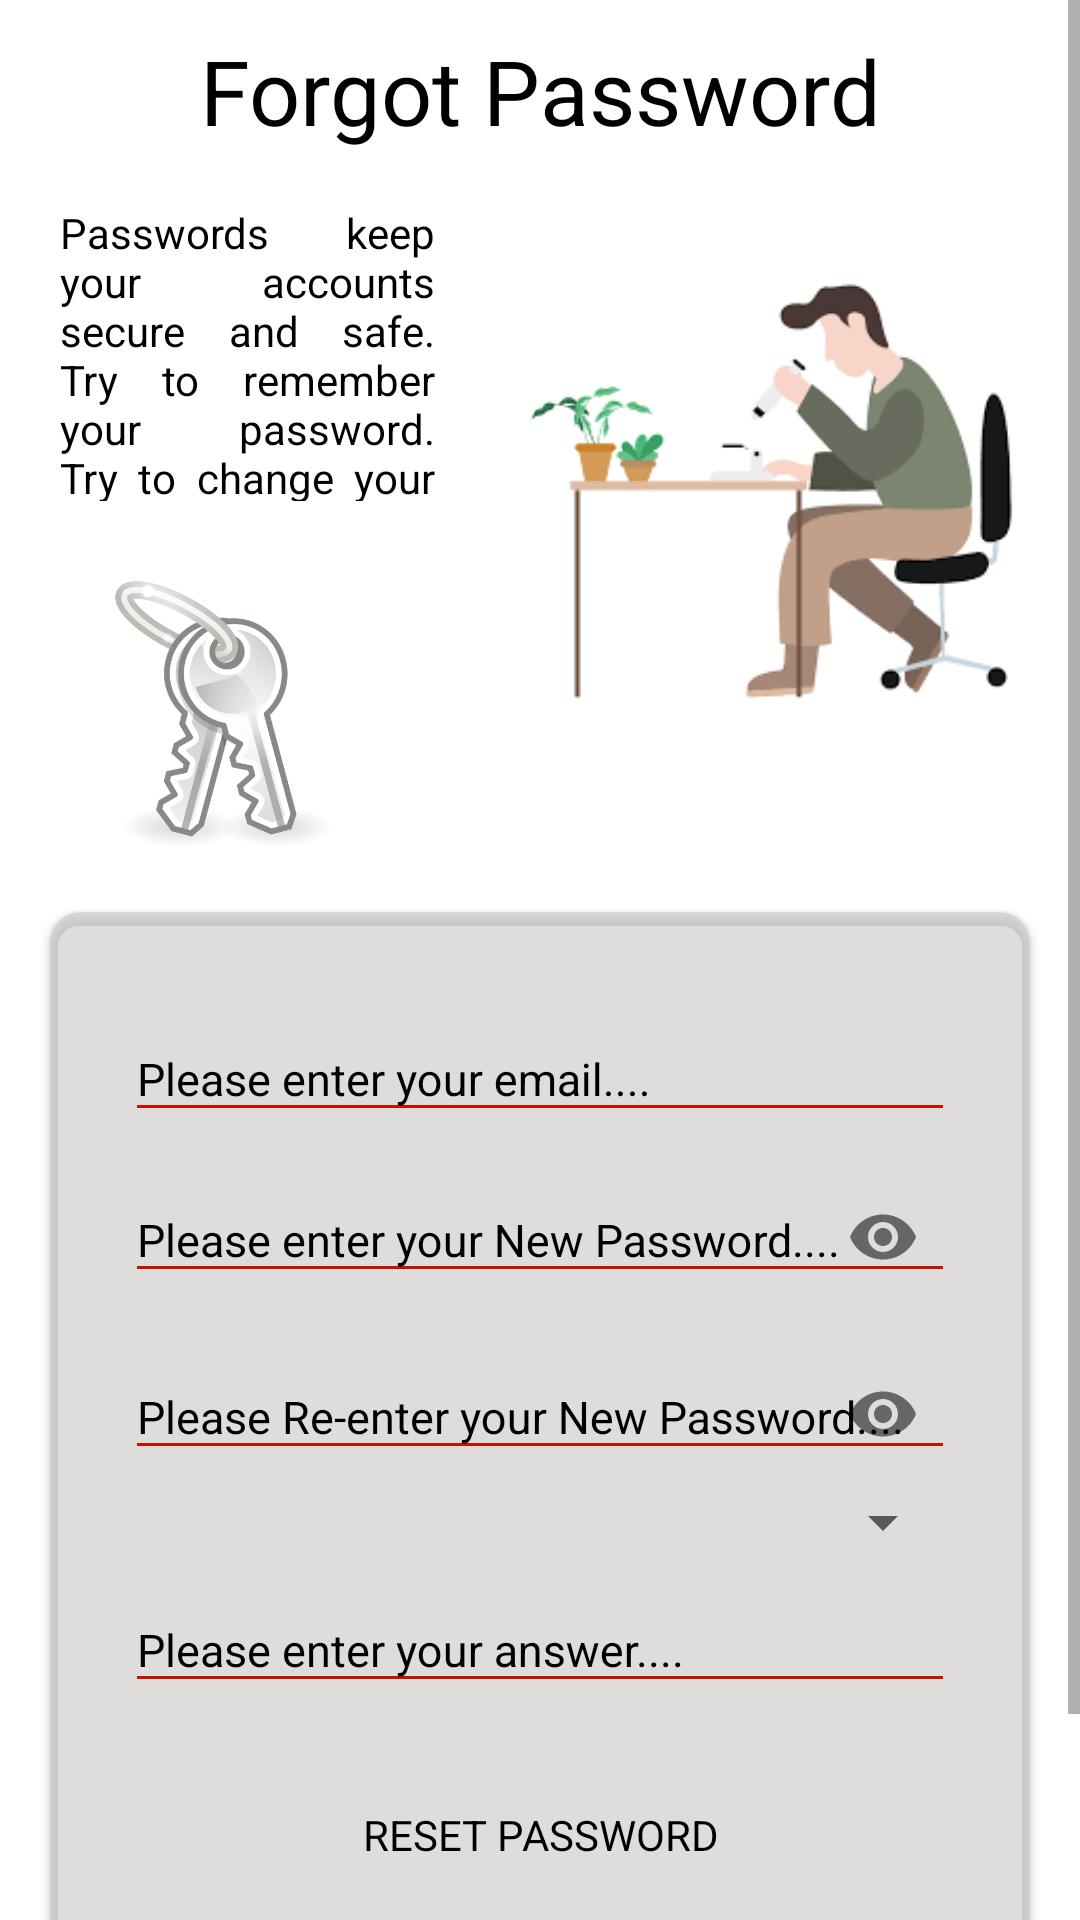

Icon bounding boxes for this 1080x1920 phone screenshot, format (x1, y1, x2, y2):
keyforgotpassword: (115, 581, 299, 837)
